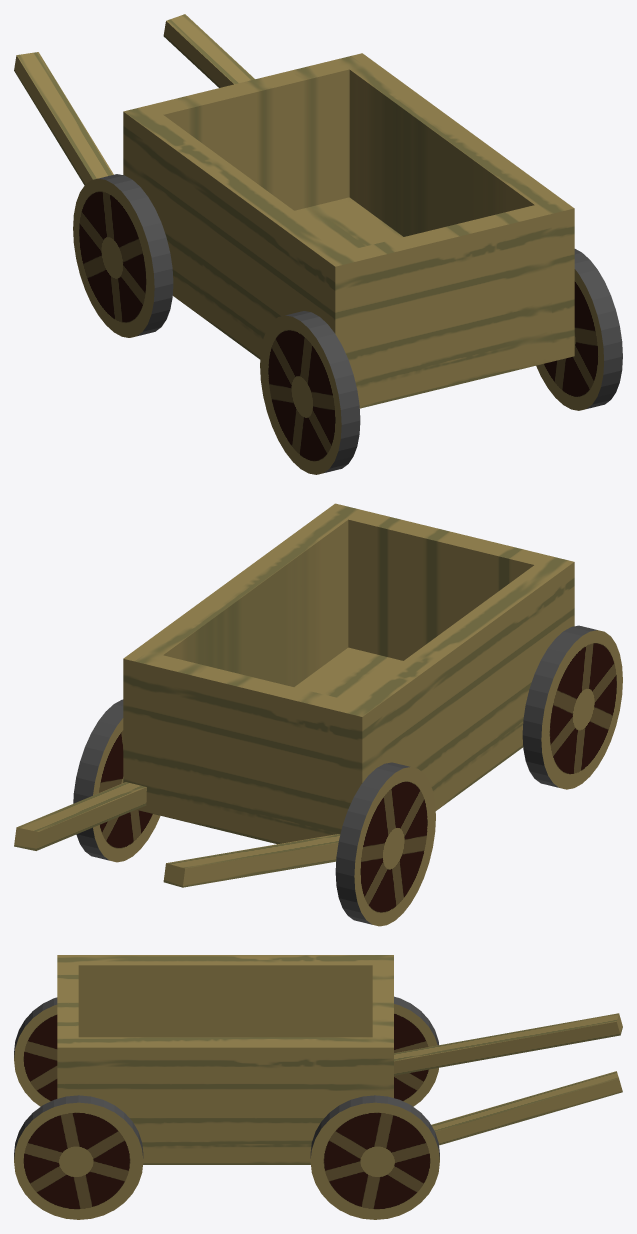
Rendered from Car.fbx.
The picture shows the model from 3 angles, top to bottom: view 1: azimuth 30°, elevation 25°; view 2: azimuth 150°, elevation 25°; view 3: azimuth 270°, elevation 25°; orthographic projection. The views are drawn at different scales.
Visible parts, largest first — view 1: Cube, Cylinder, Cube.001; view 2: Cube, Cylinder, Cube.001; view 3: Cube, Cylinder, Cube.001.
Part boxes in pixels (x1,y1,x2,y2): Cube: (123,53,574,408); Cylinder: (73,174,622,474); Cube.001: (14,14,254,185); Cube: (123,503,574,844); Cylinder: (73,625,622,926); Cube.001: (14,782,340,887); Cube: (57,955,393,1164); Cylinder: (14,996,439,1219); Cube.001: (394,1013,622,1145).
Size of the model in its own units: 3.98 by 2.8 by 9.41.
